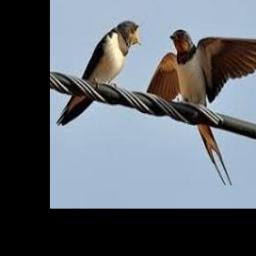Swallow: (145, 29, 256, 185), (55, 22, 141, 126)
